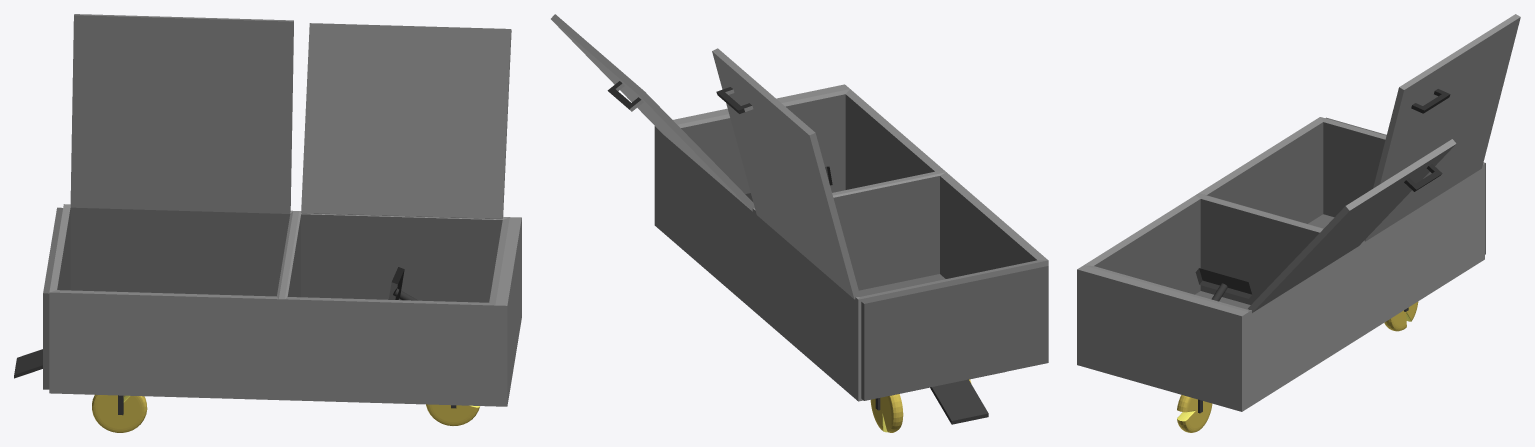
The model's file is fridgecheese.gltf.
The picture shows the model from 3 angles, left to right: view 1: azimuth 30°, elevation 25°; view 2: azimuth 150°, elevation 25°; view 3: azimuth 270°, elevation 25°; orthographic projection. The views are drawn at different scales.
Parts seen in each view (by area): view 1: Cube.045; view 2: Cube.045; view 3: Cube.045.
Boxes of the visible parts, bbox=[...] form: Cube.045: bbox=[14, 14, 521, 432]; Cube.045: bbox=[551, 14, 1048, 432]; Cube.045: bbox=[1077, 14, 1520, 432].
Size of the model in its own units: 12.4 by 8.32 by 10.45.
